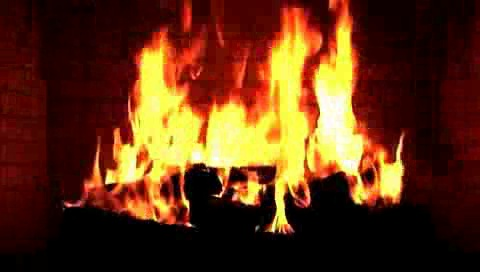fire: (123, 19, 407, 220)
